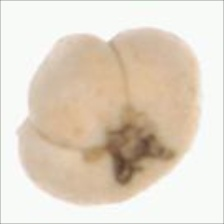L5: (24, 30, 136, 155), (93, 107, 179, 186)
L6: (16, 23, 205, 207)
